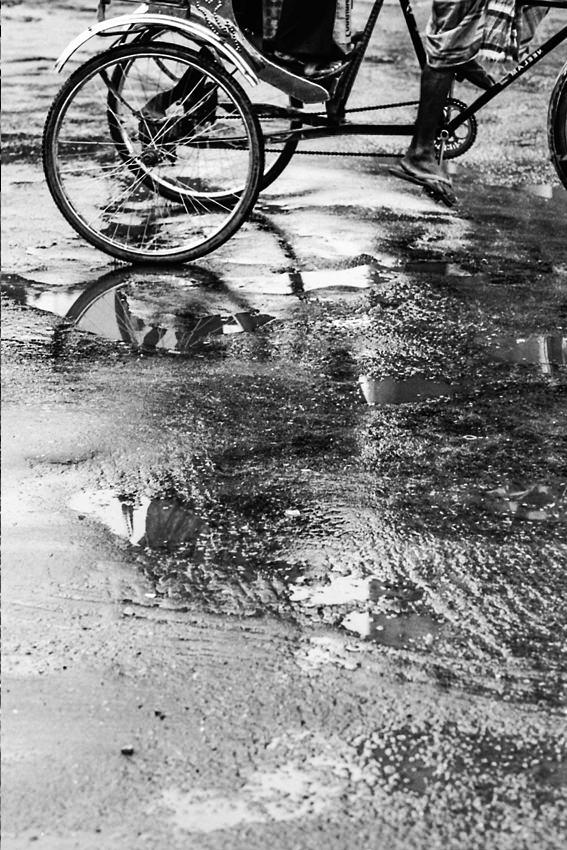Rickshaw: (35, 2, 564, 324)
